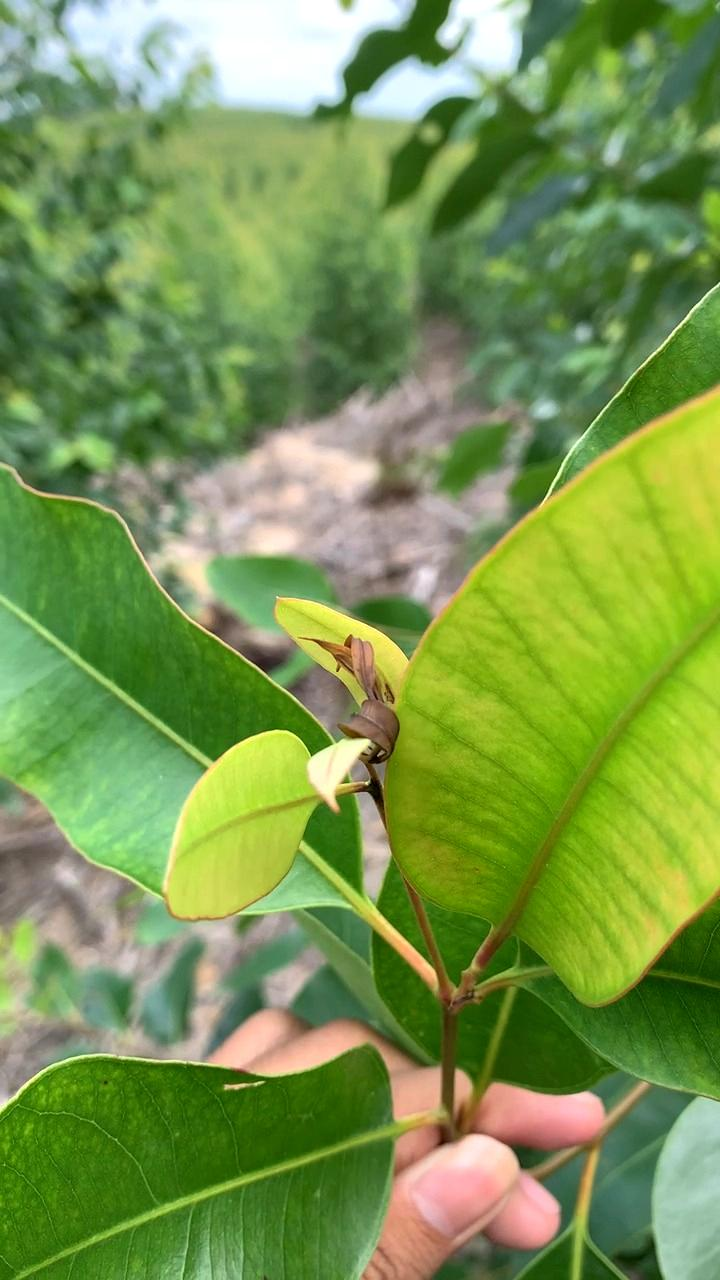Helopeltis-Withered Sprout: (283, 620, 416, 760)
